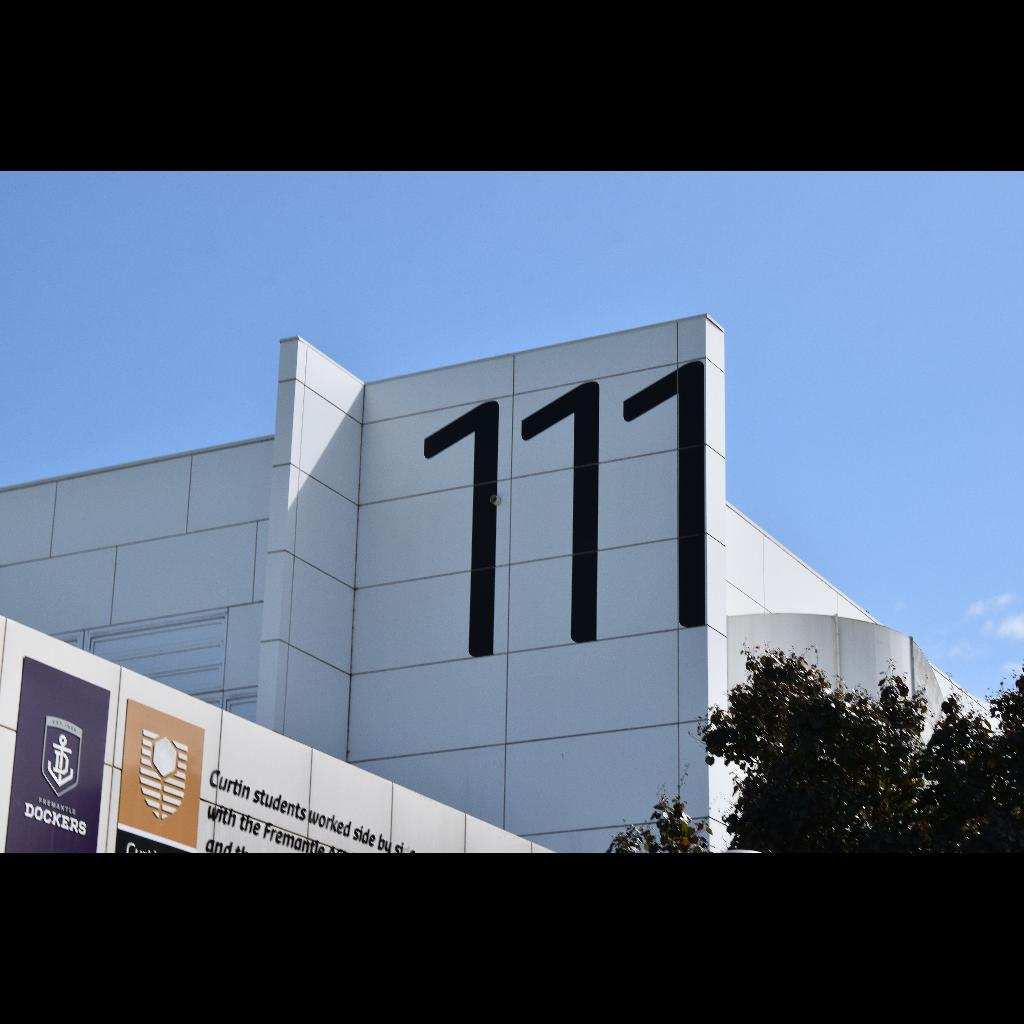BuildingCodes: (419, 356, 709, 662)
